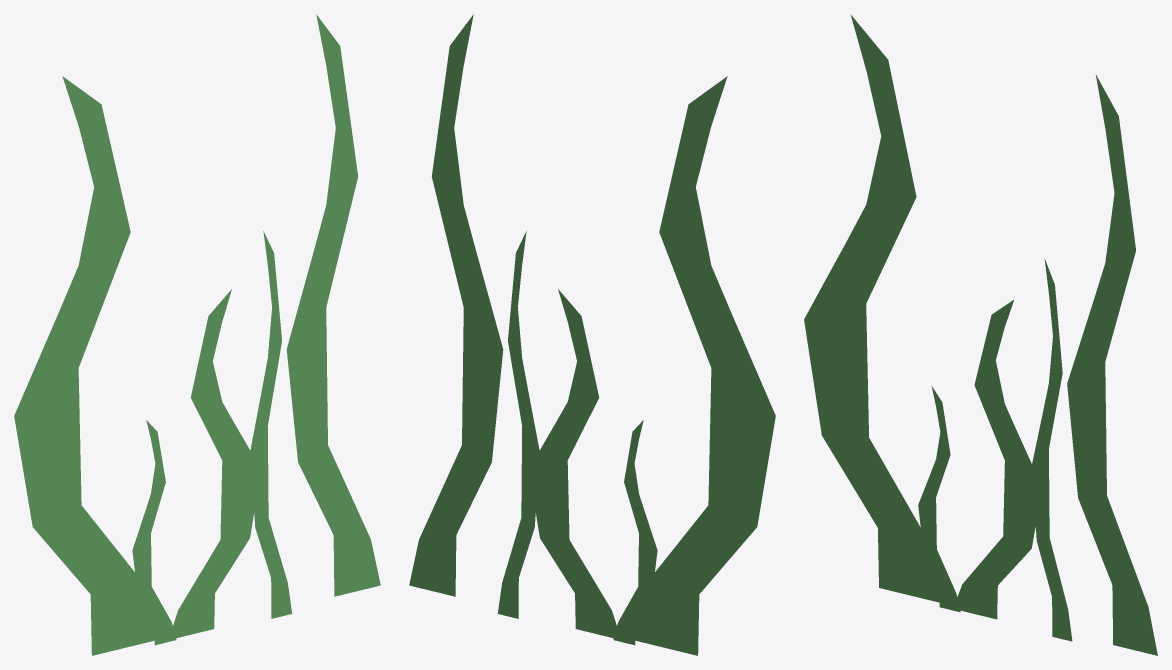
Rendered from Grass 2.fbx.
The picture shows the model from 3 angles, left to right: view 1: azimuth 30°, elevation 25°; view 2: azimuth 150°, elevation 25°; view 3: azimuth 330°, elevation 25°; orthographic projection. The views are drawn at different scales.
Parts seen in each view (by area): view 1: Plane.005; view 2: Plane.005; view 3: Plane.005.
Part boxes in pixels (bbox=[...]): Plane.005: bbox=[14, 14, 380, 655]; Plane.005: bbox=[409, 14, 775, 655]; Plane.005: bbox=[804, 14, 1157, 655].
Size of the model in its own units: 17.41 by 26.96 by 1.16e-06.
